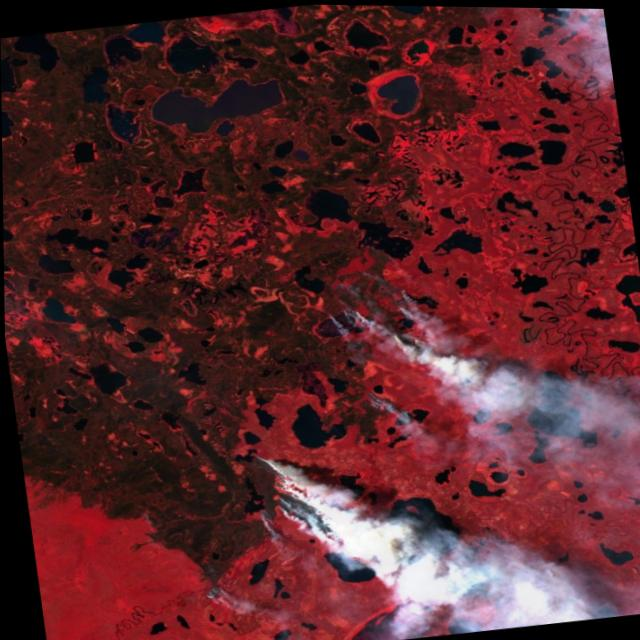fire: (176, 431, 372, 617), (294, 216, 451, 386), (350, 377, 415, 426)
